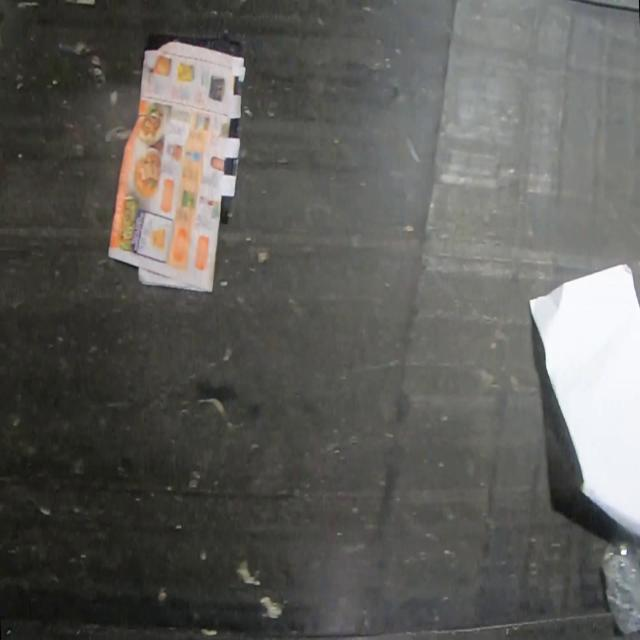rigid_plastic: (600, 524, 640, 638)
